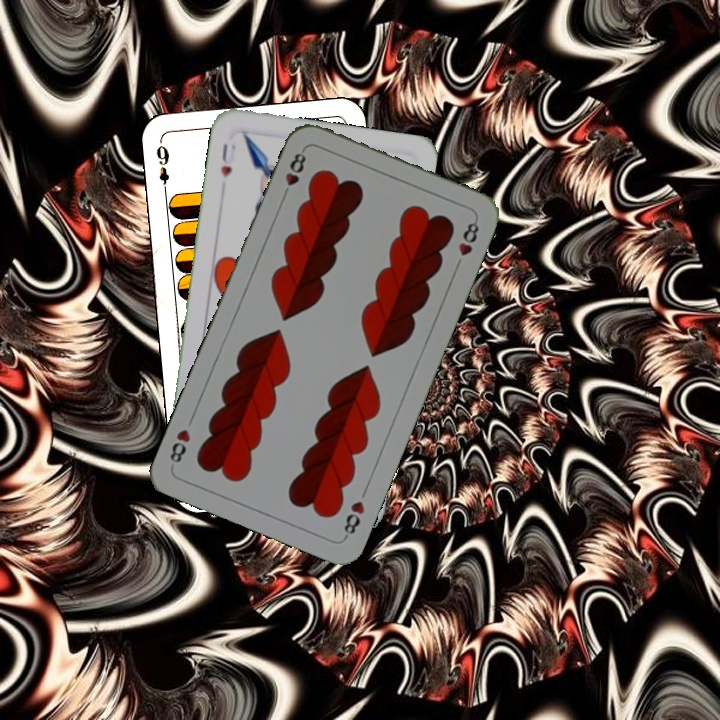E9: (152, 139, 172, 198)
H8: (278, 145, 309, 202), (339, 497, 368, 541)
HU: (217, 139, 239, 180)
